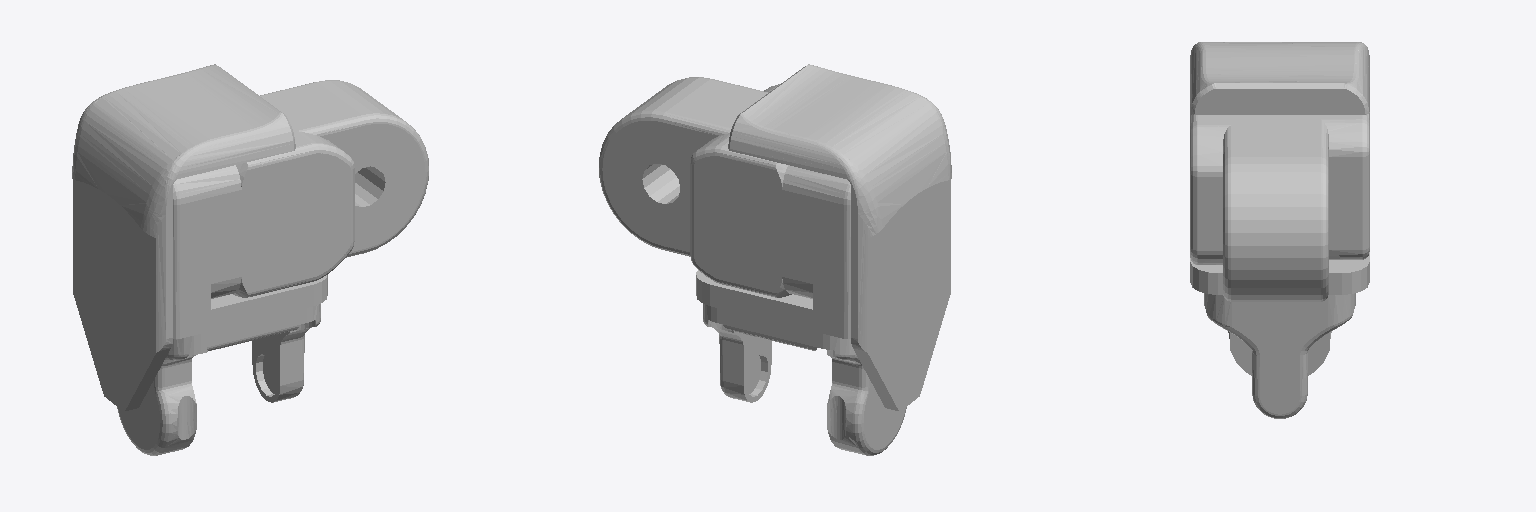
File: tesollo_right_rl_dg_3_1_visuals_rl_dg_3_1_mesh.obj
3 renders of one model, left to right at view 1: azimuth 30°, elevation 25°; view 2: azimuth 150°, elevation 25°; view 3: azimuth 270°, elevation 25°, orthographic.
Bounding box in the file's own units: 0.0427 × 0.0466 × 0.0224.